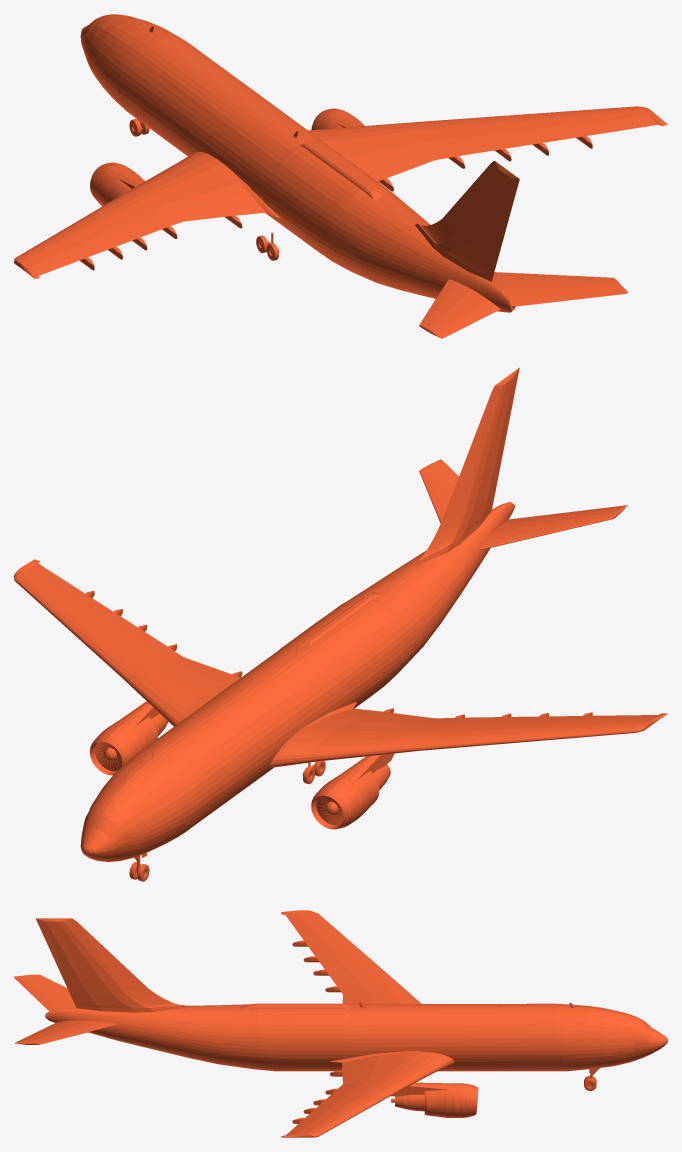
3 renders of one model, top to bottom at view 1: azimuth 30°, elevation 25°; view 2: azimuth 150°, elevation 25°; view 3: azimuth 270°, elevation 25°, orthographic. The views are drawn at different scales.
Visible parts, largest first — view 1: mesh5_mesh5-geometry, mesh49_mesh49-geometry, mesh2_mesh2-geometry, mesh1_mesh1-geometry, mesh52_mesh52-geometry, mesh53_mesh53-geometry, mesh6_mesh6-geometry, mesh7_mesh7-geometry, mesh54_mesh54-geometry; view 2: mesh5_mesh5-geometry, mesh2_mesh2-geometry, mesh49_mesh49-geometry, mesh1_mesh1-geometry, mesh52_mesh52-geometry, mesh6_mesh6-geometry, mesh7_mesh7-geometry, mesh54_mesh54-geometry, mesh53_mesh53-geometry; view 3: mesh52_mesh52-geometry, mesh48_mesh48-geometry, mesh49_mesh49-geometry, mesh2_mesh2-geometry, mesh54_mesh54-geometry, mesh5_mesh5-geometry, mesh6_mesh6-geometry, mesh53_mesh53-geometry, mesh55_mesh55-geometry.
Boxes of the visible parts, <box> form: mesh5_mesh5-geometry: <box>80,14,512,312</box>; mesh49_mesh49-geometry: <box>308,106,667,181</box>; mesh2_mesh2-geometry: <box>14,151,279,278</box>; mesh1_mesh1-geometry: <box>415,161,519,281</box>; mesh52_mesh52-geometry: <box>108,14,515,311</box>; mesh53_mesh53-geometry: <box>492,272,627,306</box>; mesh6_mesh6-geometry: <box>419,279,500,338</box>; mesh7_mesh7-geometry: <box>90,162,142,206</box>; mesh54_mesh54-geometry: <box>311,108,363,129</box>; mesh5_mesh5-geometry: <box>86,502,515,861</box>; mesh2_mesh2-geometry: <box>268,701,667,768</box>; mesh49_mesh49-geometry: <box>14,559,240,726</box>; mesh1_mesh1-geometry: <box>415,367,519,566</box>; mesh52_mesh52-geometry: <box>80,502,509,860</box>; mesh6_mesh6-geometry: <box>480,505,627,549</box>; mesh7_mesh7-geometry: <box>311,765,390,829</box>; mesh54_mesh54-geometry: <box>90,714,168,775</box>; mesh53_mesh53-geometry: <box>419,459,492,523</box>; mesh52_mesh52-geometry: <box>45,1005,667,1072</box>; mesh48_mesh48-geometry: <box>35,918,187,1012</box>; mesh49_mesh49-geometry: <box>281,1051,454,1137</box>; mesh2_mesh2-geometry: <box>281,910,421,1003</box>; mesh54_mesh54-geometry: <box>391,1083,478,1117</box>; mesh5_mesh5-geometry: <box>46,1003,667,1038</box>; mesh6_mesh6-geometry: <box>14,974,76,1011</box>; mesh53_mesh53-geometry: <box>14,1020,116,1044</box>; mesh55_mesh55-geometry: <box>391,1082,452,1096</box>.
Bounding box in the file's own units: 0.6162 × 0.2221 × 0.7556.
